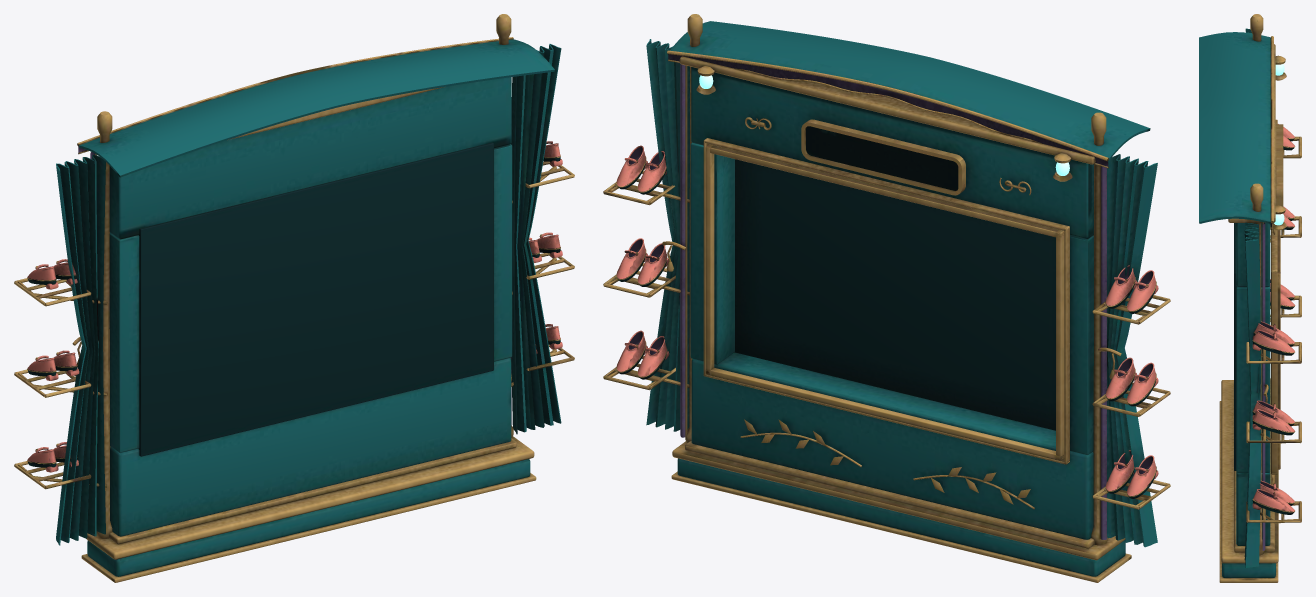
3 renders of one model, left to right at view 1: azimuth 30°, elevation 25°; view 2: azimuth 150°, elevation 25°; view 3: azimuth 270°, elevation 25°, orthographic. The views are drawn at different scales.
Visible parts, largest first — view 1: Teal_woven_pavilion_cloth, Plain_dark_teal, Brushed_antique_brass, Coral_fine_leather; view 2: Teal_woven_pavilion_cloth, Plain_dark_teal, Brushed_antique_brass, Violet_woven_lining, Coral_fine_leather; view 3: Teal_woven_pavilion_cloth, Brushed_antique_brass, Coral_fine_leather, Plain_dark_teal, Violet_woven_lining, Turquoise_lantern_glow.
Boxes of the visible parts, x1,y1,x2,y2 form: Teal_woven_pavilion_cloth: [56, 39, 561, 576]; Plain_dark_teal: [28, 142, 560, 467]; Brushed_antique_brass: [14, 14, 574, 582]; Coral_fine_leather: [27, 141, 562, 472]; Teal_woven_pavilion_cloth: [646, 21, 1157, 576]; Plain_dark_teal: [618, 126, 1156, 498]; Brushed_antique_brass: [603, 14, 1170, 582]; Violet_woven_lining: [628, 54, 1152, 539]; Coral_fine_leather: [616, 145, 1158, 495]; Teal_woven_pavilion_cloth: [1199, 28, 1275, 577]; Brushed_antique_brass: [1219, 14, 1301, 582]; Coral_fine_leather: [1252, 124, 1294, 511]; Plain_dark_teal: [1234, 138, 1294, 514]; Violet_woven_lining: [1258, 222, 1276, 550]; Turquoise_lantern_glow: [1274, 64, 1284, 225].
Size of the model in its own units: 10.69 by 8.7 by 2.06.
6 materials, 5 textured.
